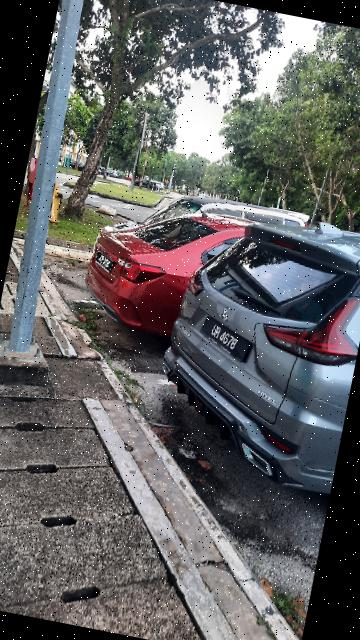License_Plate: (195, 314, 257, 366), (91, 250, 116, 277)
car: (147, 203, 360, 498), (76, 192, 248, 349)
